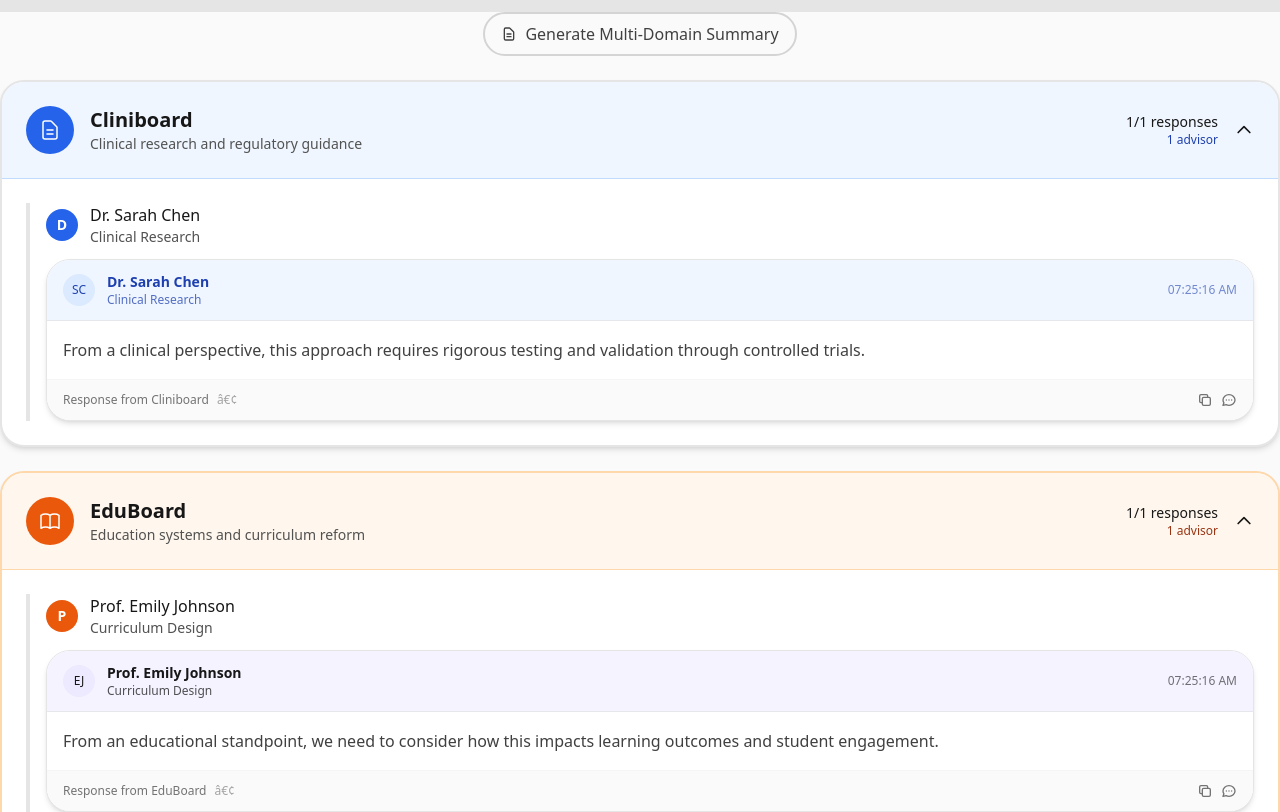
Test: MultiDomainResponsePanel › generates and displays summary when requested
Click the button "Generate Multi-Domain Summary" at (640, 34), box top-left (483, 12), bottom-right (797, 56)
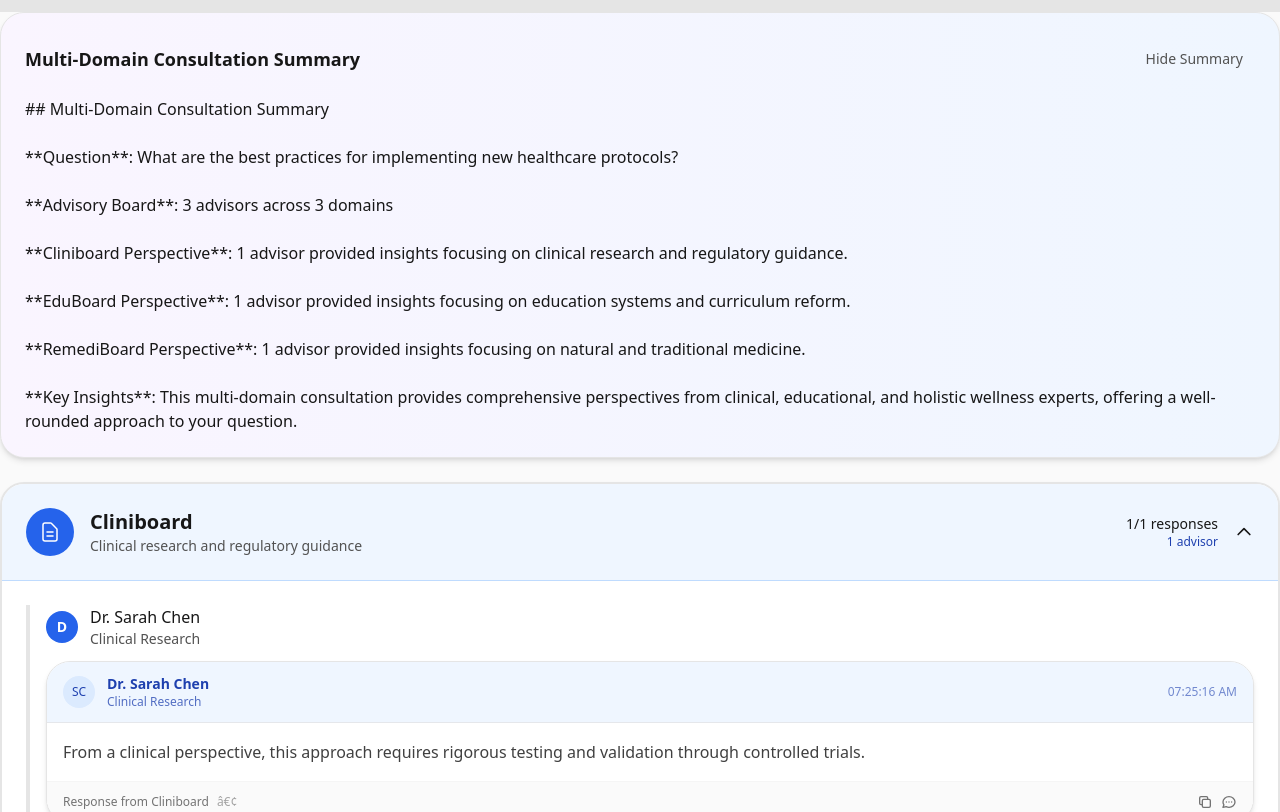
expect the heading "Multi-Domain Consultation Summary" is shown: met, box top-left (25, 45), bottom-right (360, 73)
expect the button "Hide Summary" is shown: met, box top-left (1134, 37), bottom-right (1255, 81)
